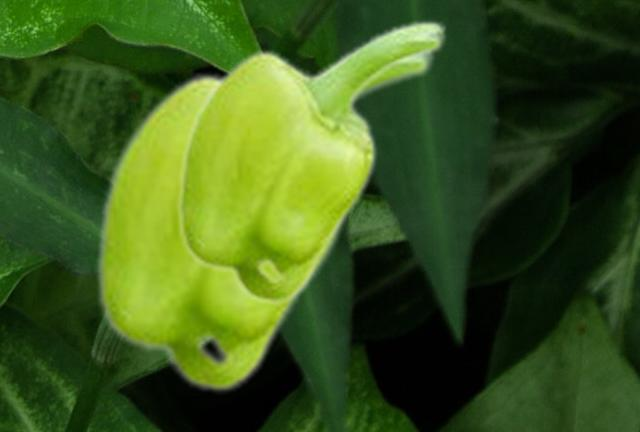bell_pepper: (94, 33, 436, 393), (175, 18, 447, 305)
